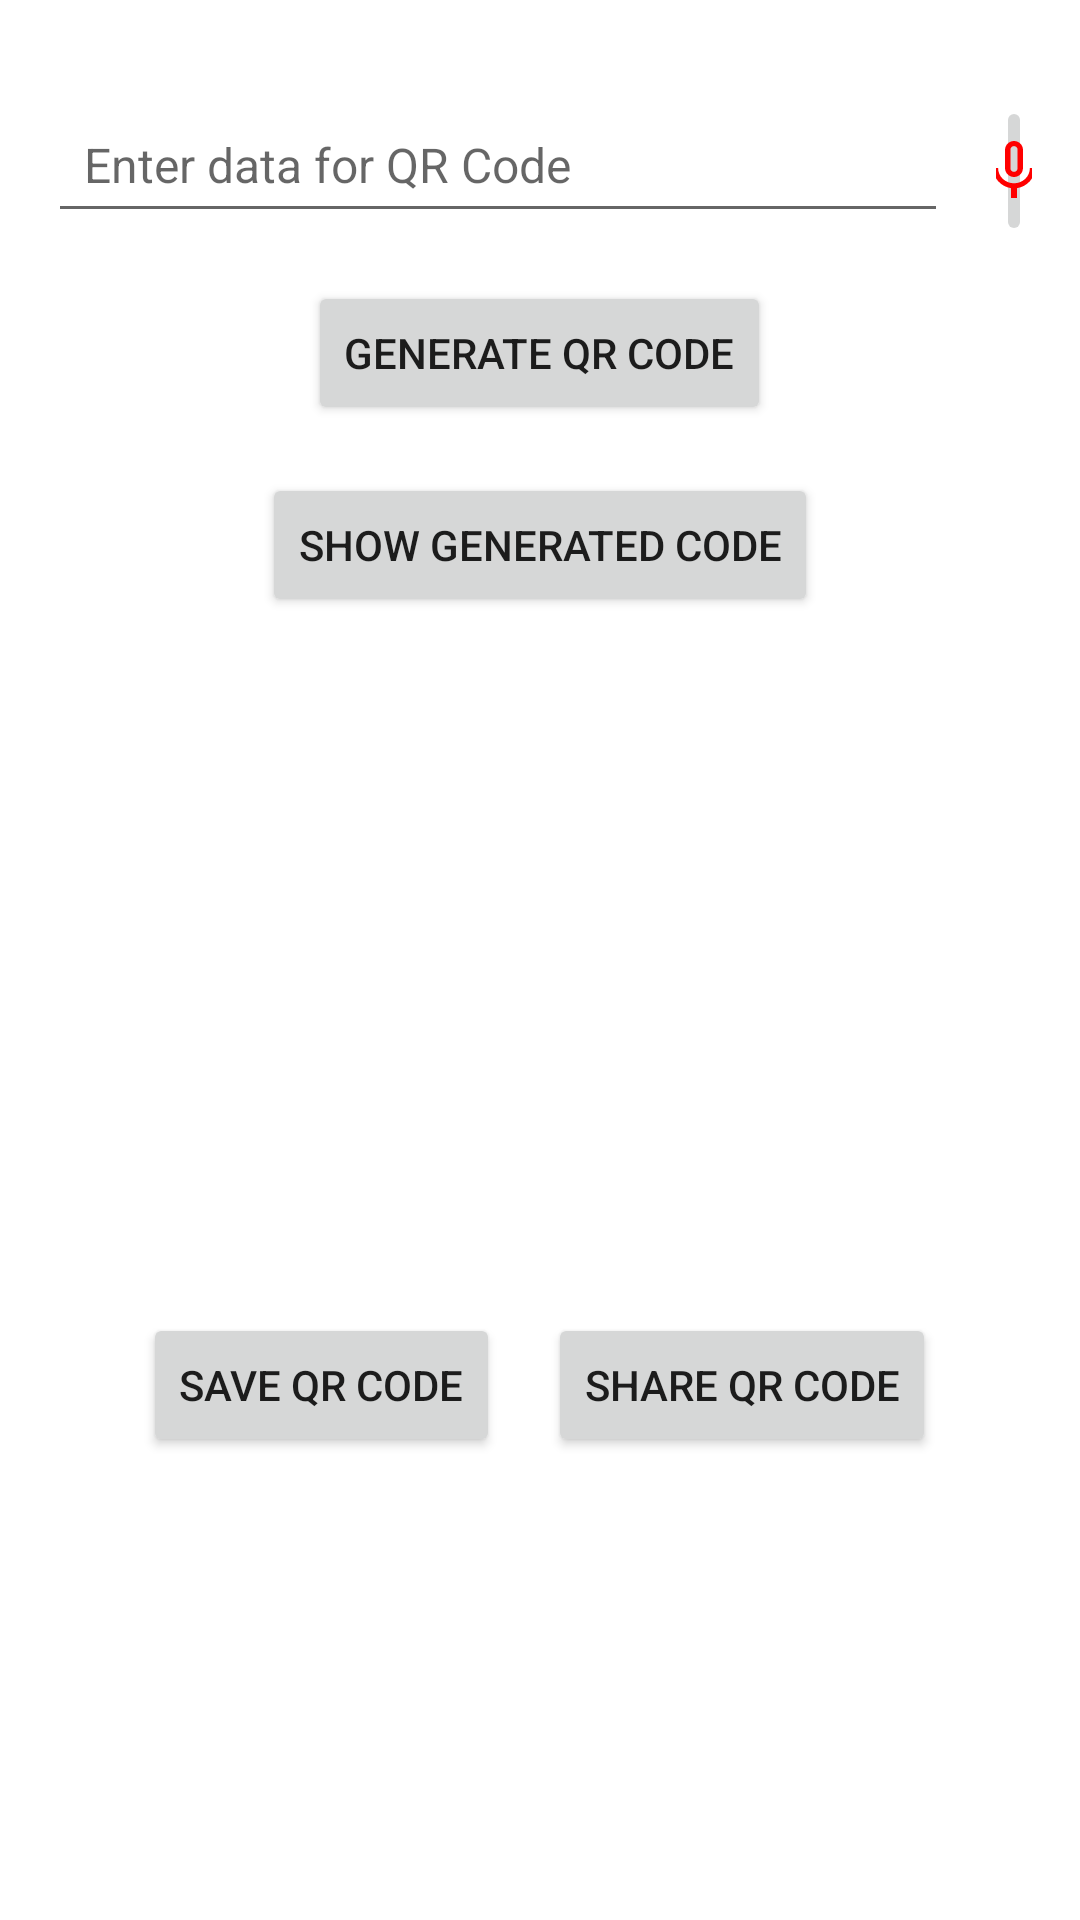

Icon click points for this 1080 x 1920 phone screenshot, format (x=x, y=y):
Speak Button: (x=1014, y=171)
